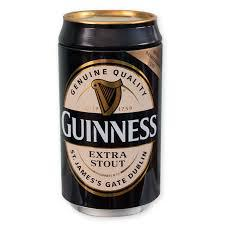beer: (57, 8, 166, 217)
